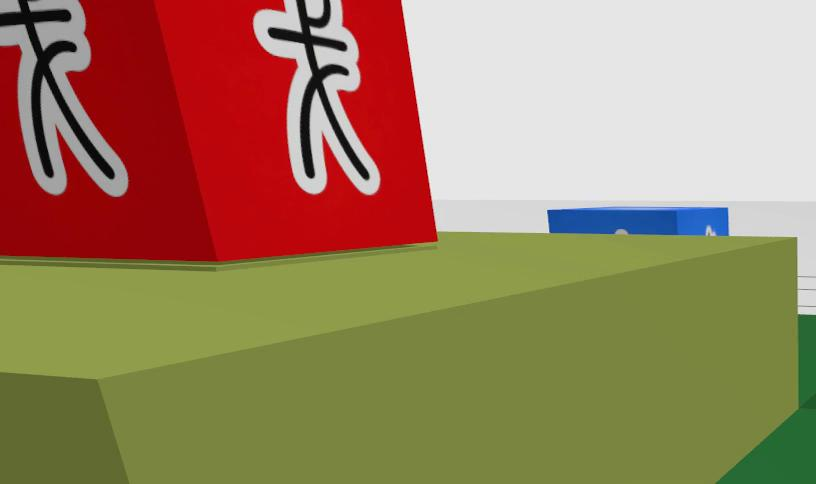KFS_FAKE: (0, 0, 434, 262), (0, 0, 128, 196), (253, 0, 380, 193)
